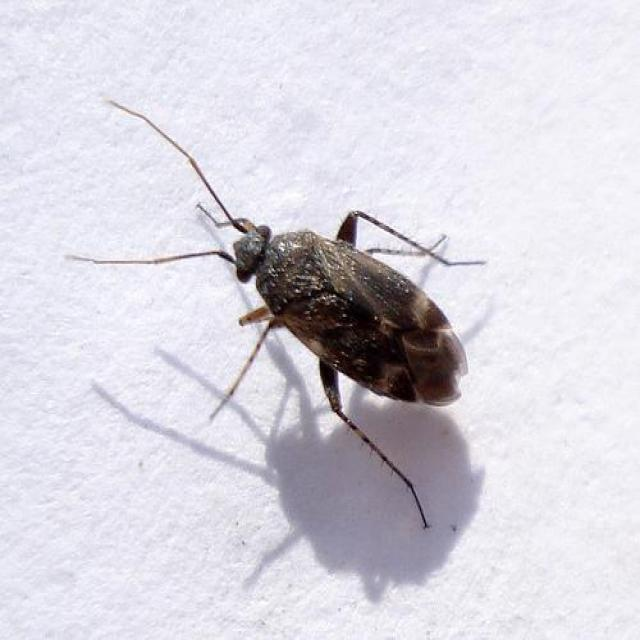Miridae-Adult-: (48, 102, 487, 532)
